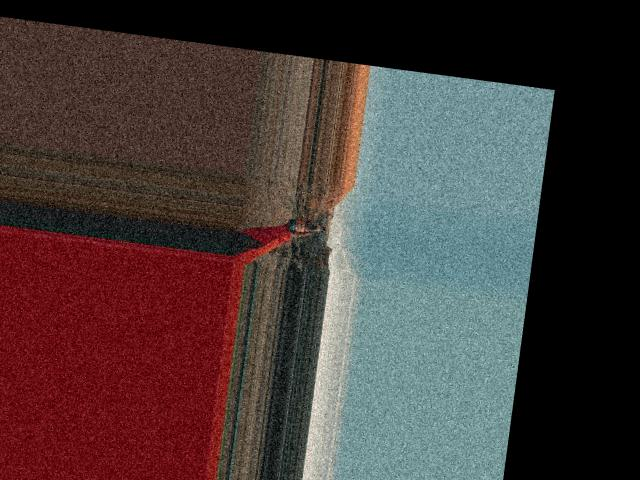beer: (287, 217, 326, 236)
